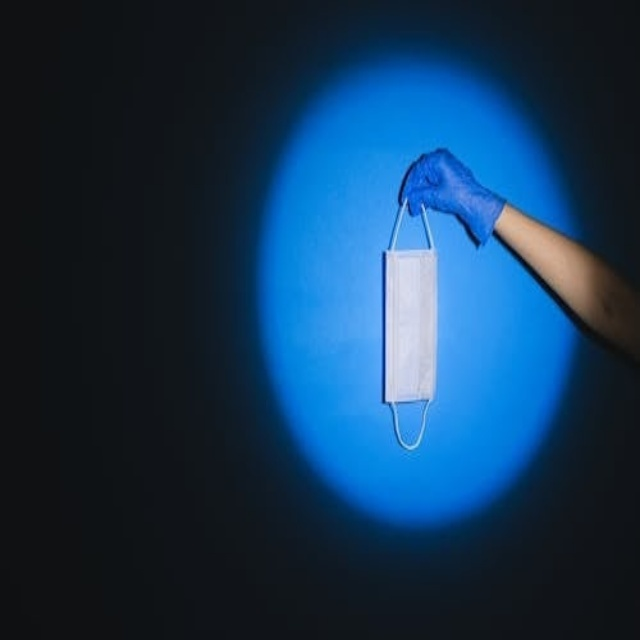Guantes: (400, 148, 507, 248)
